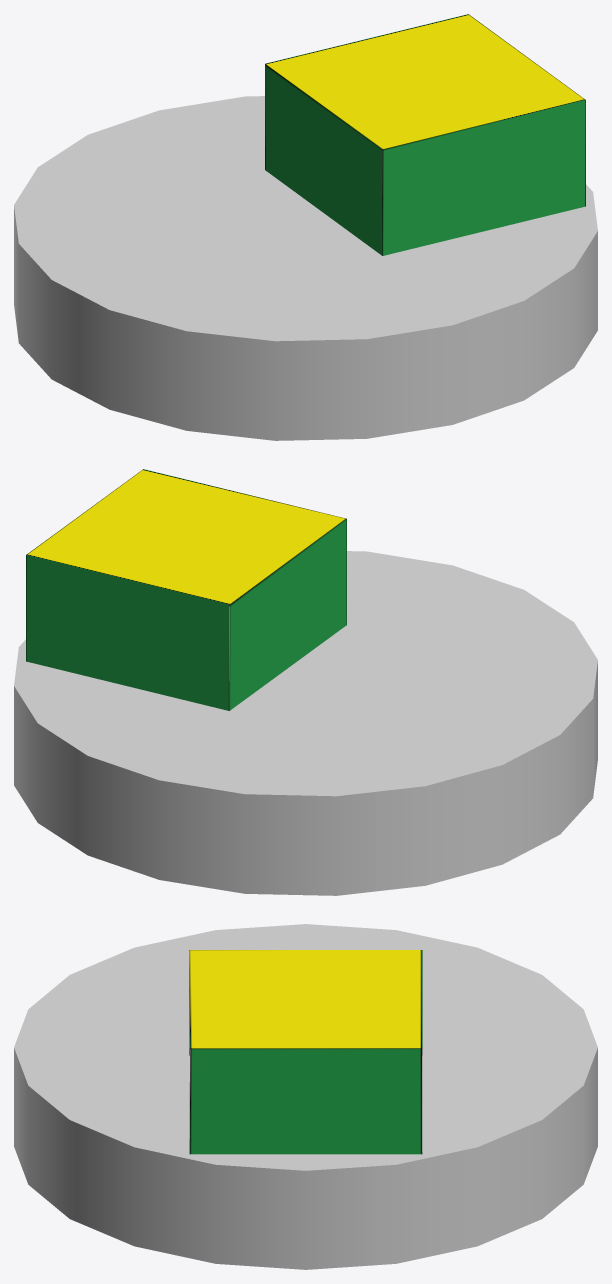
File: turret_final.fbx
3 views of the same model, one above another, from view 1: azimuth 30°, elevation 25°; view 2: azimuth 150°, elevation 25°; view 3: azimuth 270°, elevation 25° (orthographic).
Parts seen in each view (by area): view 1: pCylinder2; view 2: pCylinder2; view 3: pCylinder2.
Boxes of the visible parts, bbox=[...] form: pCylinder2: bbox=[14, 14, 597, 440]; pCylinder2: bbox=[14, 469, 597, 895]; pCylinder2: bbox=[14, 924, 597, 1269].
Size of the model in its own units: 2 by 0.7758 by 2.
